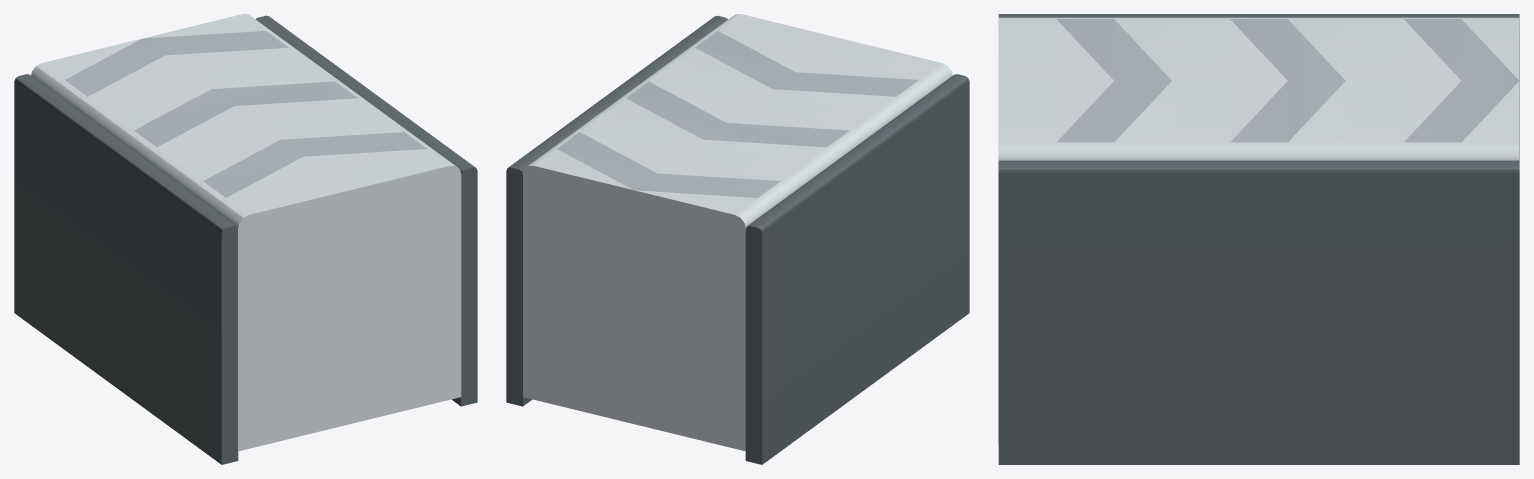
File: normal_platform (2).fbx
3 views of the same model, side by side, from view 1: azimuth 30°, elevation 25°; view 2: azimuth 150°, elevation 25°; view 3: azimuth 270°, elevation 25° (orthographic). The views are drawn at different scales.
Visible parts, largest first — view 1: polySurface155; view 2: polySurface155; view 3: polySurface155.
Part boxes in pixels (x1,y1,x2,y2): polySurface155: (14, 14, 477, 464); polySurface155: (506, 14, 969, 464); polySurface155: (998, 14, 1519, 464).
Bounding box in the file's own units: 53.09 × 48.29 × 74.57.
1 material, 1 textured.
